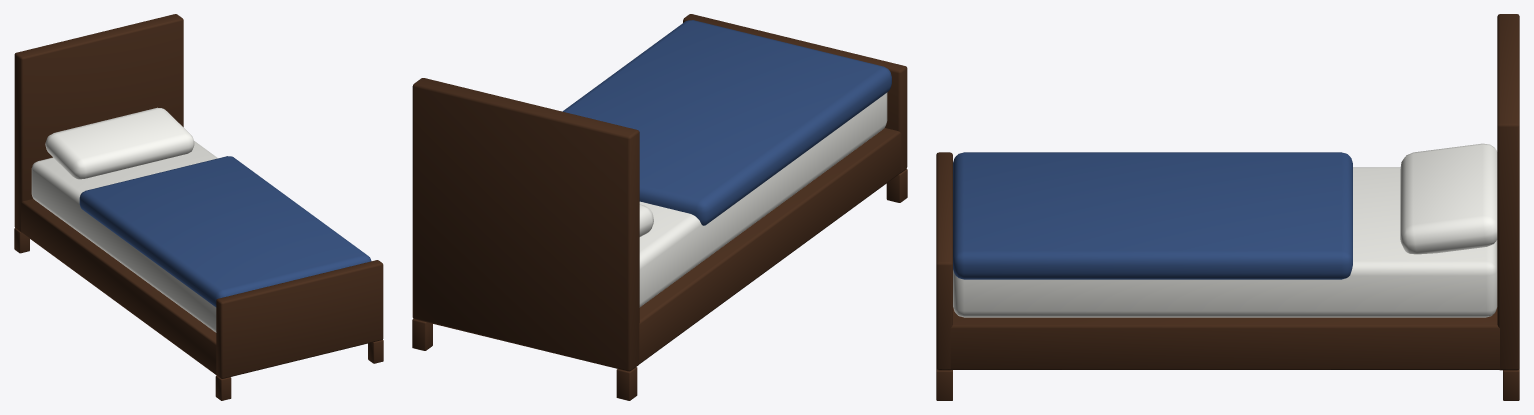
File: Bed_Single.glb
The picture shows the model from 3 angles, left to right: view 1: azimuth 30°, elevation 25°; view 2: azimuth 150°, elevation 25°; view 3: azimuth 270°, elevation 25°; orthographic projection. The views are drawn at different scales.
Parts seen in each view (by area): view 1: Bed_Single; view 2: Bed_Single; view 3: Bed_Single.
Part boxes in pixels (<box>): Bed_Single: <box>14,14,383,400</box>; Bed_Single: <box>412,14,907,400</box>; Bed_Single: <box>936,14,1519,400</box>.
Size of the model in its own units: 0.951 by 1.1 by 2.1.
